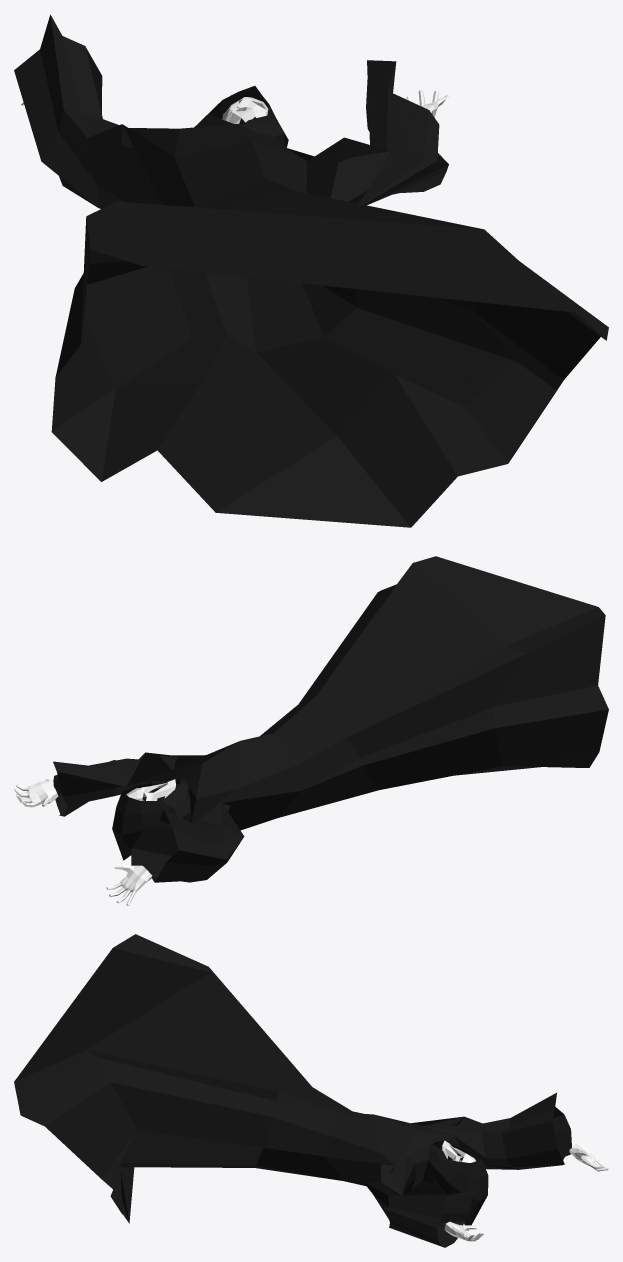
Rendered from ReaperDead(96).obj.
3 renders of one model, top to bottom at view 1: azimuth 30°, elevation 25°; view 2: azimuth 150°, elevation 25°; view 3: azimuth 270°, elevation 25°, orthographic. The views are drawn at different scales.
Parts seen in each view (by area): view 1: Plane003; view 2: Plane003; view 3: Plane003.
Part boxes in pixels (x1,y1,x2,y2): Plane003: (14,14,608,527); Plane003: (14,556,608,905); Plane003: (14,934,608,1247).
Size of the model in its own units: 215 by 106 by 293.
